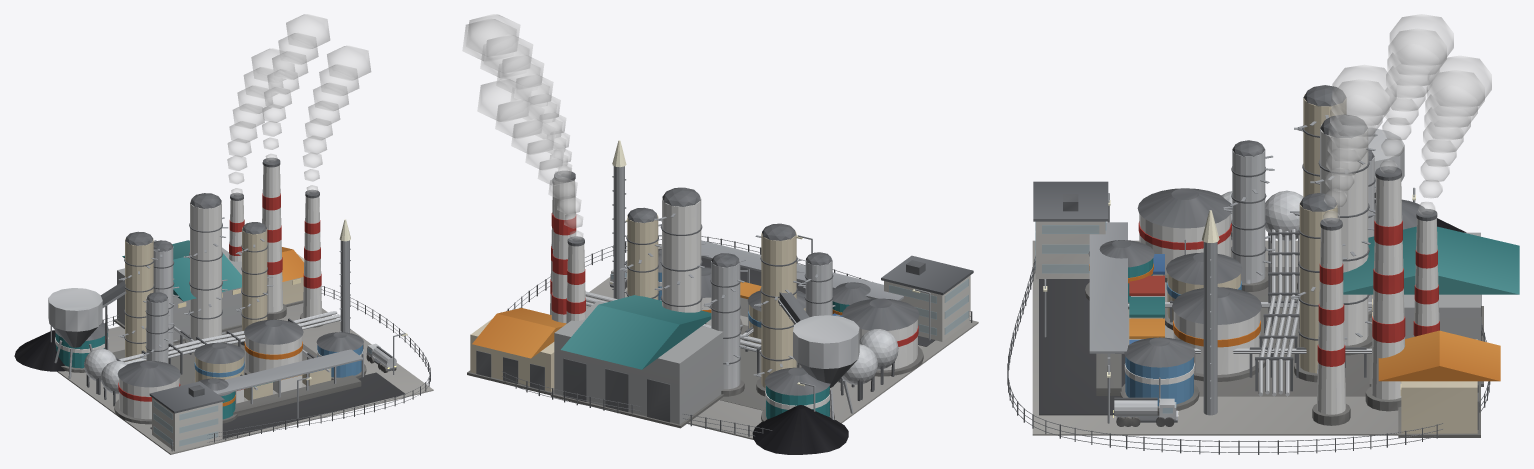
File: Refinery_P3.fbx
3 renders of one model, left to right at view 1: azimuth 30°, elevation 25°; view 2: azimuth 150°, elevation 25°; view 3: azimuth 270°, elevation 25°, orthographic. The views are drawn at different scales.
Parts seen in each view (by area): view 1: Refinery.Pad, Refinery.Col2, Refinery.Office, Refinery.Smoke0, Refinery.Smoke1, Refinery.Bay, Refinery.Smoke2, Refinery.Hall, Refinery.Col0, Refinery.Tank0, Refinery.Intake, Refinery.Stack0 (+19 smaller); view 2: Refinery.Hall, Refinery.Pad, Refinery.Shed, Refinery.Smoke2, Refinery.Smoke0, Refinery.Col0, Refinery.Col2, Refinery.Office, Refinery.Intake, Refinery.Col1, Refinery.CoalIn, Refinery.Tank0 (+15 smaller); view 3: Refinery.Pad, Refinery.Shed, Refinery.Hall, Refinery.Col2, Refinery.Stack0, Refinery.Office, Refinery.Smoke1, Refinery.Smoke0, Refinery.Smoke2, Refinery.Stack1, Refinery.Tank3, Refinery.Bay (+17 smaller).
Boxes of the visible parts, left/top/right/bottom form: Refinery.Pad: left=57, top=303, right=433, bottom=454; Refinery.Col2: left=183, top=193, right=228, bottom=349; Refinery.Office: left=149, top=381, right=224, bottom=451; Refinery.Smoke0: left=262, top=14, right=329, bottom=162; Refinery.Smoke1: left=303, top=46, right=370, bottom=193; Refinery.Bay: left=213, top=349, right=363, bottom=416; Refinery.Smoke2: left=227, top=48, right=294, bottom=196; Refinery.Hall: left=114, top=240, right=241, bottom=343; Refinery.Col0: left=118, top=231, right=159, bottom=362; Refinery.Tank0: left=114, top=360, right=180, bottom=424; Refinery.Intake: left=48, top=288, right=102, bottom=379; Refinery.Stack0: left=262, top=157, right=286, bottom=319; Refinery.Hall: left=550, top=295, right=723, bottom=428; Refinery.Pad: left=585, top=244, right=978, bottom=439; Refinery.Shed: left=467, top=308, right=566, bottom=395; Refinery.Smoke2: left=477, top=79, right=583, bottom=241; Refinery.Smoke0: left=466, top=14, right=571, bottom=176; Refinery.Col0: left=753, top=223, right=804, bottom=396; Refinery.Col2: left=654, top=187, right=708, bottom=312; Refinery.Office: left=881, top=255, right=973, bottom=341; Refinery.Intake: left=793, top=315, right=859, bottom=419; Refinery.Col1: left=703, top=253, right=747, bottom=396; Refinery.CoalIn: left=752, top=405, right=848, bottom=454; Refinery.Tank0: left=842, top=298, right=923, bottom=376; Refinery.Pad: left=1032, top=240, right=1398, bottom=435; Refinery.Shed: left=1378, top=330, right=1500, bottom=437; Refinery.Hall: left=1343, top=226, right=1519, bottom=386; Refinery.Col2: left=1310, top=114, right=1377, bottom=355; Refinery.Stack0: left=1365, top=166, right=1405, bottom=411; Refinery.Office: left=1033, top=181, right=1108, bottom=279; Refinery.Smoke1: left=1323, top=65, right=1396, bottom=223; Refinery.Smoke0: left=1380, top=14, right=1453, bottom=173; Refinery.Smoke2: left=1418, top=56, right=1491, bottom=214; Refinery.Stack1: left=1312, top=217, right=1350, bottom=425; Refinery.Tank3: left=1172, top=287, right=1266, bottom=381; Refinery.Bay: left=1089, top=222, right=1127, bottom=395.
Bounding box in the file's own units: 8986 × 7366 × 8058.
